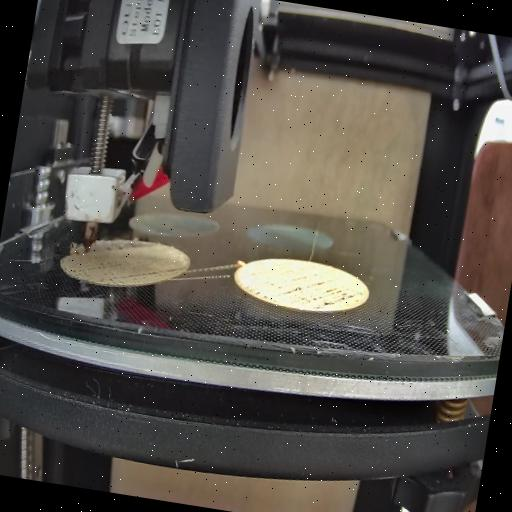under_extrusion: (240, 266, 373, 315), (110, 250, 189, 288), (60, 236, 84, 266)
